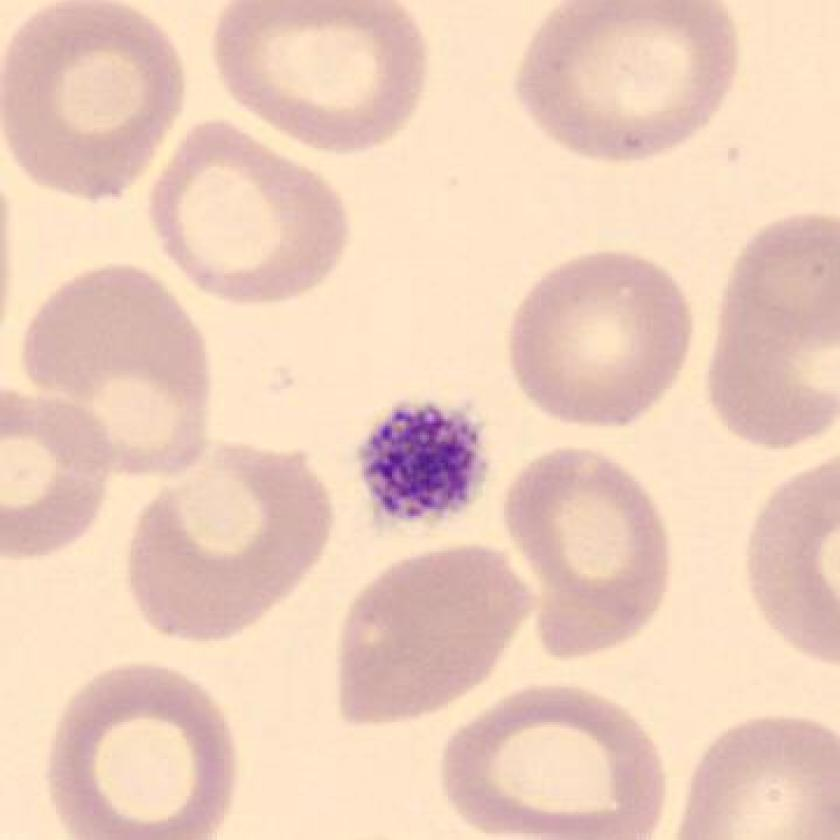platelets: (351, 397, 496, 533)
